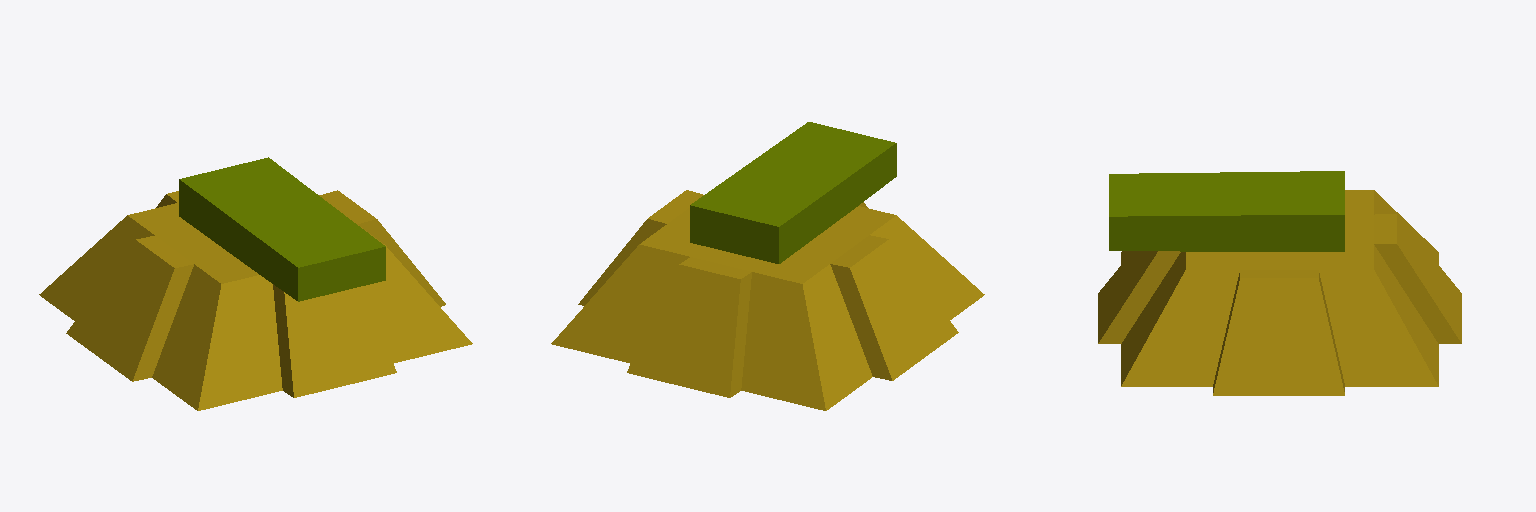
The model's file is Turret4.obj.
3 views of the same model, side by side, from view 1: azimuth 30°, elevation 25°; view 2: azimuth 150°, elevation 25°; view 3: azimuth 270°, elevation 25° (orthographic).
Parts seen in each view (by area): view 1: Box003, Box002; view 2: Box003, Box002; view 3: Box003, Box002.
Part boxes in pixels (x1,y1,x2,y2): Box003: (39, 190, 472, 410); Box002: (179, 157, 385, 301); Box003: (551, 190, 984, 410); Box002: (690, 122, 896, 263); Box003: (1098, 190, 1461, 395); Box002: (1109, 171, 1344, 251).
Bounding box in the file's own units: 45.21 × 17.46 × 45.21.